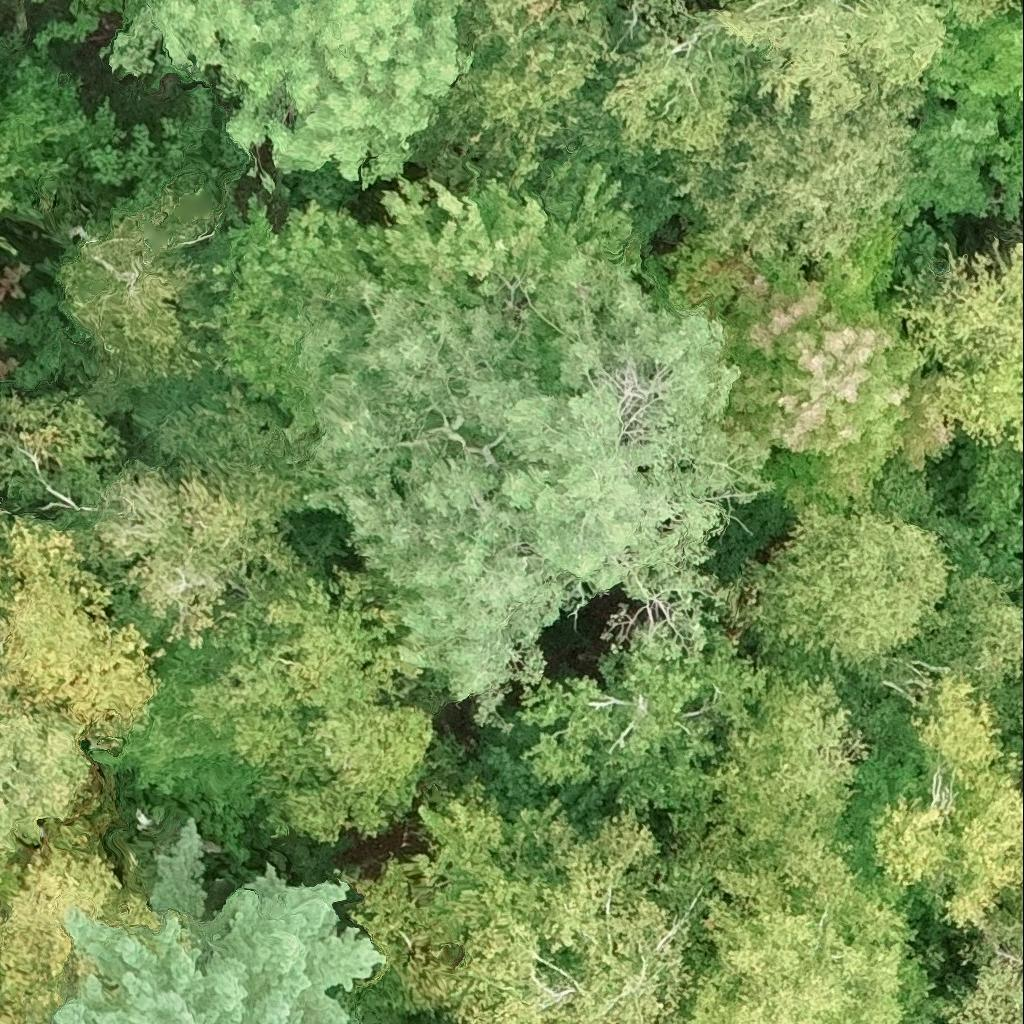crown: (285, 252, 770, 733), (212, 154, 632, 423), (640, 219, 960, 509), (0, 170, 234, 410), (680, 77, 925, 280), (219, 0, 470, 187), (891, 221, 1023, 454), (717, 0, 960, 119), (603, 0, 786, 157), (896, 6, 1023, 220), (112, 0, 256, 75), (0, 58, 85, 155), (37, 0, 133, 47), (940, 0, 1023, 40), (1005, 478, 1023, 559), (717, 0, 771, 9)
